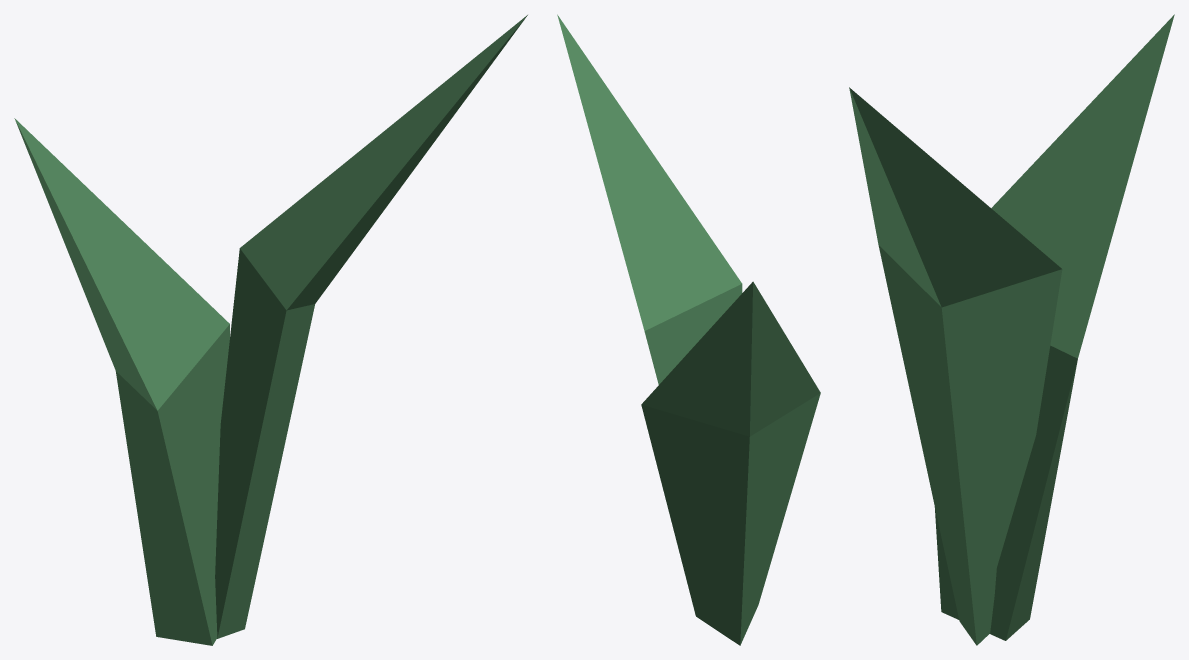
The model's file is msh_Grass01.fbx.
The picture shows the model from 3 angles, left to right: view 1: azimuth 30°, elevation 25°; view 2: azimuth 150°, elevation 25°; view 3: azimuth 270°, elevation 25°; orthographic projection. The views are drawn at different scales.
Visible parts, largest first — view 1: Cube.038, Cube.039; view 2: Cube.038, Cube.039; view 3: Cube.039, Cube.038.
Boxes of the visible parts, <box> form: Cube.038: <box>14,118,229,645</box>; Cube.039: <box>215,15,527,638</box>; Cube.038: <box>641,281,820,645</box>; Cube.039: <box>557,14,742,384</box>; Cube.039: <box>849,87,1062,645</box>; Cube.038: <box>934,14,1174,640</box>.
Bounding box in the file's own units: 58.92 × 92.26 × 39.15.
